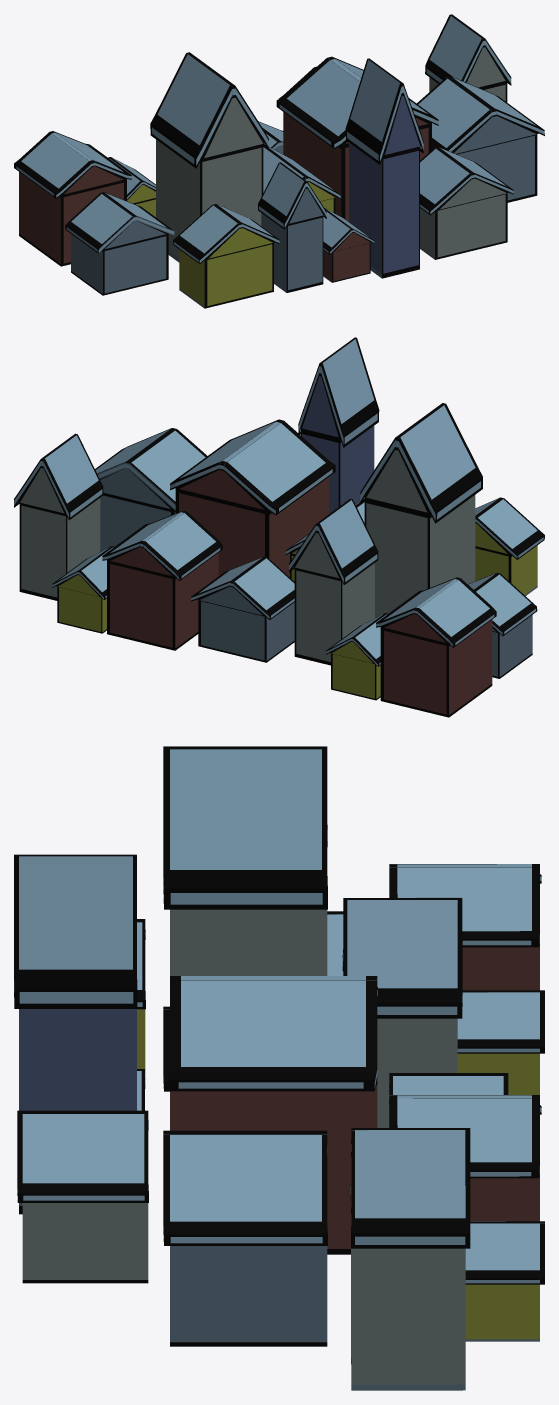
The model's file is CASITAS 3.fbx.
3 renders of one model, top to bottom at view 1: azimuth 30°, elevation 25°; view 2: azimuth 150°, elevation 25°; view 3: azimuth 270°, elevation 25°, orthographic. The views are drawn at different scales.
Visible parts, largest first — view 1: Plano.001; view 2: Plano.001; view 3: Plano.001.
Boxes of the visible parts, left/top/right/bottom form: Plano.001: left=14, top=14, right=544, bottom=308; Plano.001: left=14, top=337, right=544, bottom=717; Plano.001: left=14, top=746, right=544, bottom=1390.
Size of the model in its own units: 981 by 427 by 567.
